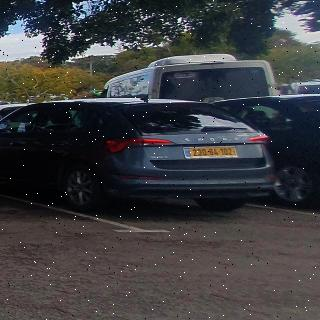LicensePlate: (190, 147, 235, 156)
